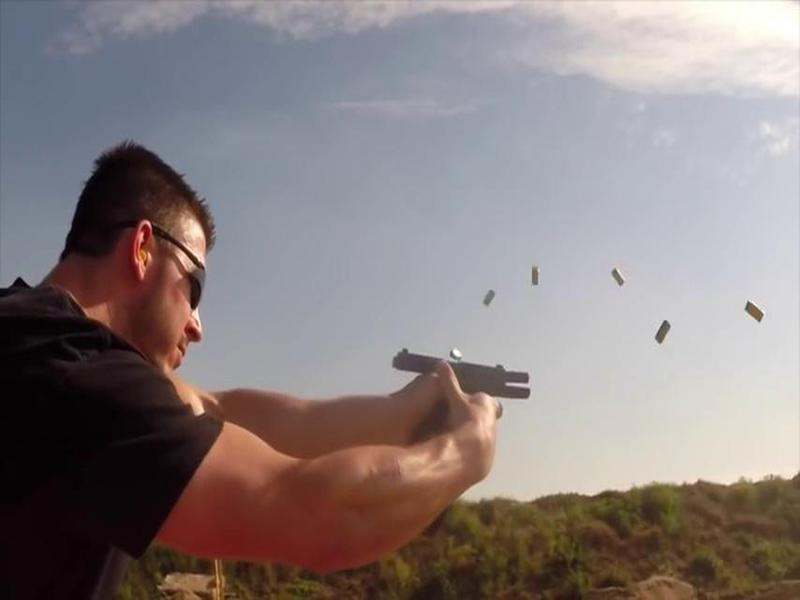Pistola: (392, 349, 544, 452)
